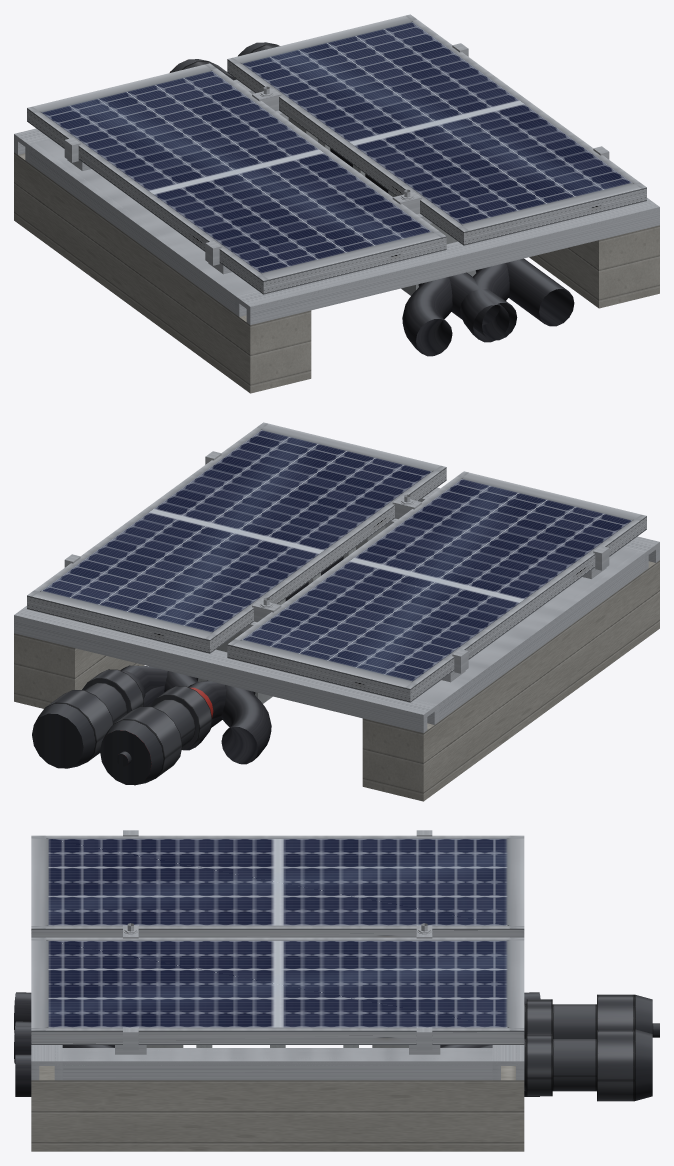
Rendered from pv_flat.obj.
The picture shows the model from 3 angles, top to bottom: view 1: azimuth 30°, elevation 25°; view 2: azimuth 150°, elevation 25°; view 3: azimuth 270°, elevation 25°; orthographic projection. The views are drawn at different scales.
Parts seen in each view (by area): view 1: modules, ballast, frame, harness_entry_south, harness_lead_south, harness_input; view 2: modules, ballast, frame, harness_input, harness_entry_north; view 3: modules, ballast, frame, harness_input, harness_lead_south, harness_entry_south.
Part boxes in pixels (x1=…): modules: x1=27, y1=14, x2=646, y2=294; ballast: x1=14, y1=152, x2=659, y2=393; frame: x1=14, y1=79, x2=659, y2=324; harness_entry_south: x1=402, y1=263, x2=509, y2=356; harness_lead_south: x1=401, y1=223, x2=574, y2=340; harness_input: x1=169, y1=42, x2=317, y2=141; modules: x1=27, y1=422, x2=646, y2=702; ballast: x1=14, y1=560, x2=659, y2=801; frame: x1=14, y1=487, x2=659, y2=732; harness_input: x1=32, y1=631, x2=272, y2=785; harness_entry_north: x1=164, y1=671, x2=271, y2=764; modules: x1=31, y1=830, x2=524, y2=1050; ballast: x1=31, y1=1066, x2=524, y2=1151; frame: x1=31, y1=1045, x2=524, y2=1080; harness_input: x1=372, y1=994, x2=659, y2=1101; harness_lead_south: x1=15, y1=1026, x2=183, y2=1096; harness_entry_south: x1=14, y1=992, x2=114, y2=1063.
Bounding box in the file's own units: 0.94 × 0.258 × 1.23.
